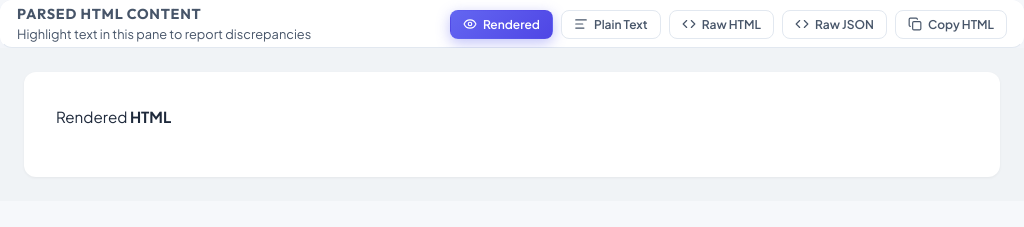
Scenario: Plain Text view › shows punctuation-faithful extracted text separately from HTML
This screenshot has width=1024, height=227.
Click the button "Plain Text".
click(611, 24)  # box [561,10,661,38]
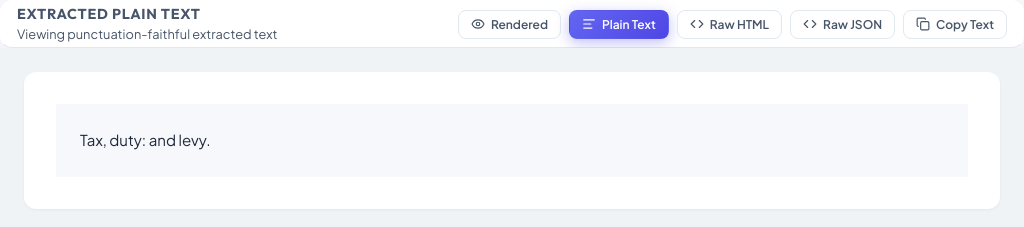
Expected: the text "Tax, duty: and levy." is shown, [56,104,968,177]
Expected: the text "Extracted Plain Text" is shown, [17,5,201,23]
